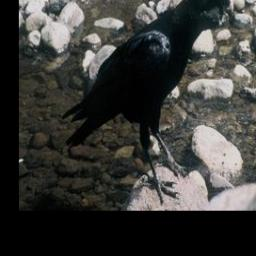Crow: (63, 0, 235, 204)
